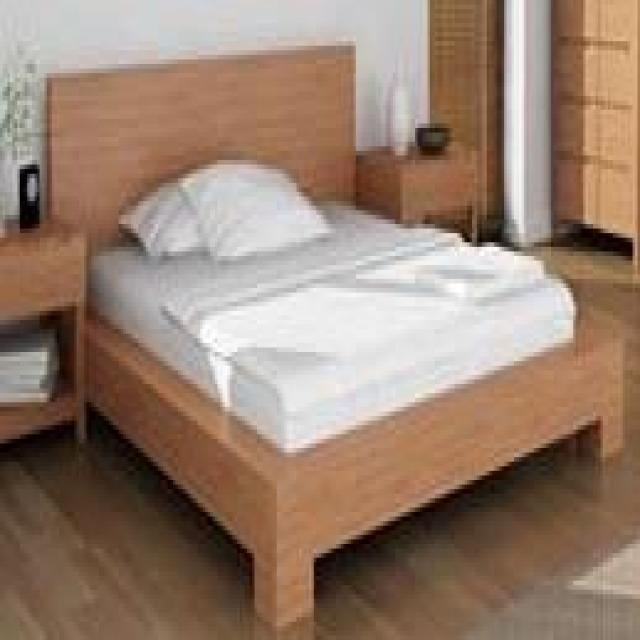bed: (42, 37, 625, 636)
